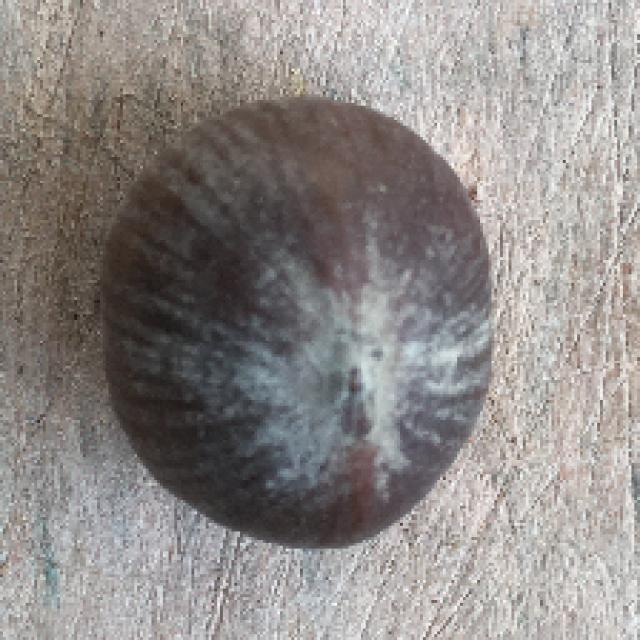damagedHazelnut: (87, 93, 499, 548)
